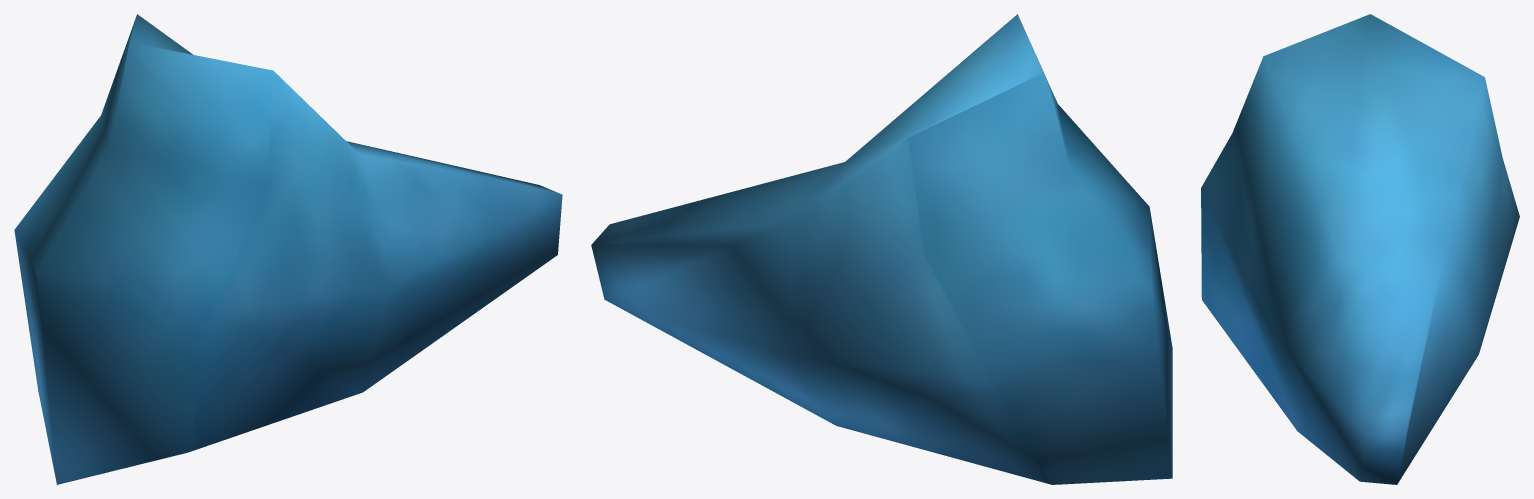
Rendered from Stage_BingYuan_BingLing08.FBX.
3 renders of one model, left to right at view 1: azimuth 30°, elevation 25°; view 2: azimuth 150°, elevation 25°; view 3: azimuth 270°, elevation 25°, orthographic. The views are drawn at different scales.
Parts seen in each view (by area): view 1: Stage_BingYuan_BingLing08; view 2: Stage_BingYuan_BingLing08; view 3: Stage_BingYuan_BingLing08.
Boxes of the visible parts, x1,y1,x2,y2 form: Stage_BingYuan_BingLing08: [14, 14, 562, 484]; Stage_BingYuan_BingLing08: [591, 14, 1172, 484]; Stage_BingYuan_BingLing08: [1201, 14, 1519, 484].
Bounding box in the file's own units: 31.36 × 22.41 × 18.02.
